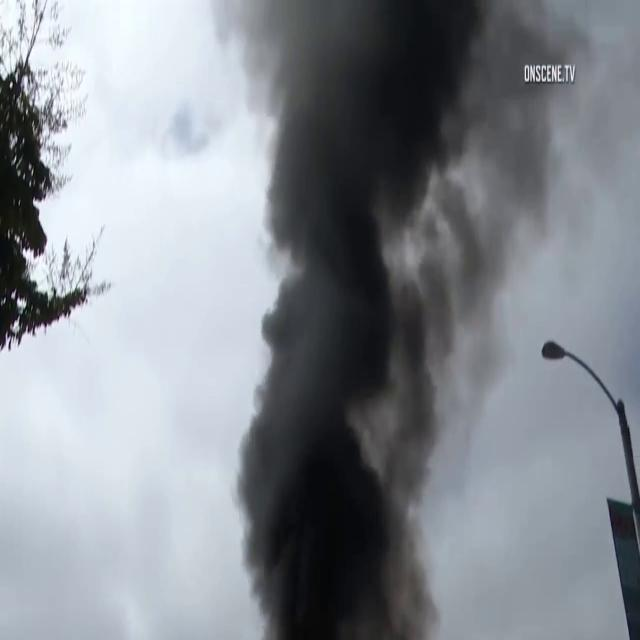Smoke: (228, 0, 582, 637)
